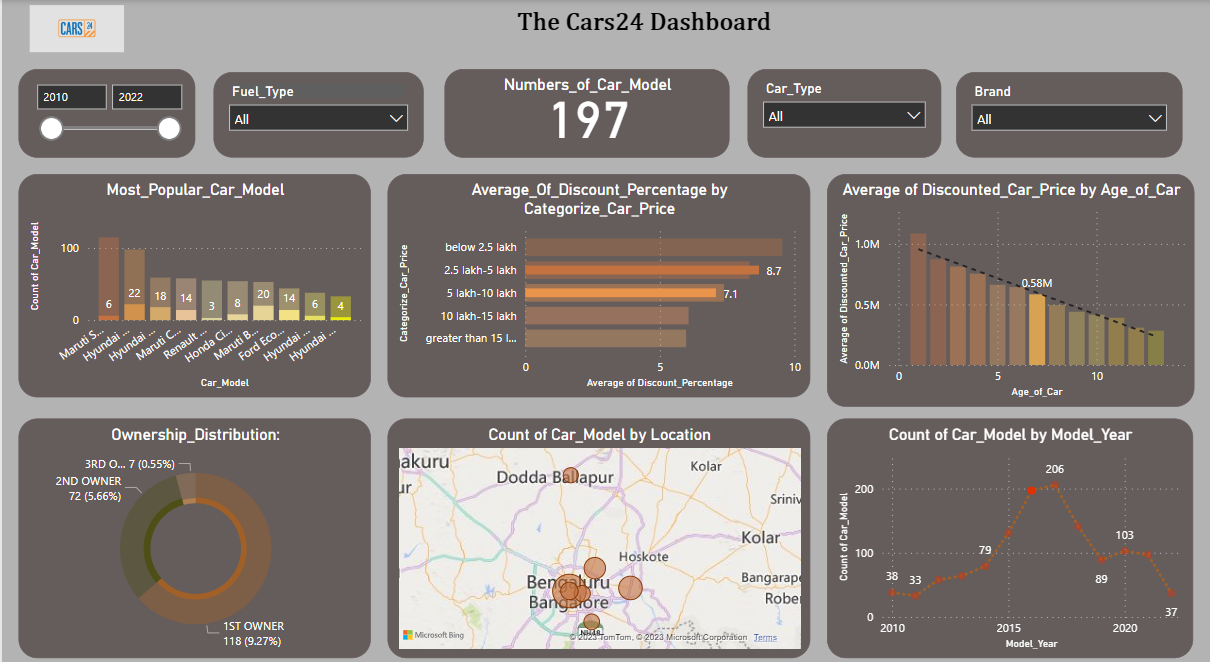

The page's visual inventory and layout, read from the dashboard file:
{"tool":"powerbi","page":{"name":"DashBoard","canvas":[1280,720],"ordinal":0},"visuals":[{"type":"barChart","title":"Average_Of_Discount_Percentage_by_Categorize_Car_Price","fields":{"Category":["Cars_24.Categorize_Car_Price"],"Y":["Avg(Cars_24.Discount_Percentage)"]},"box":[408.5,184.4,448.2,236.8],"z":0},{"type":"columnChart","title":"Most_Popular_Car_Model","fields":{"Category":["Cars_24.Car_Model"],"Y":["CountNonNull(Cars_24.Car_Model)"]},"box":[17.5,184.4,373.5,236.8],"z":1000},{"type":"clusteredColumnChart","fields":{"Y":["Avg(Cars_24.Discounted_Car_Price)"],"Category":["Cars_24.Age_of_Car"]},"box":[874.2,184.4,389.4,246.4],"z":2000},{"type":"donutChart","title":"Ownership_Distribution:","fields":{"Category":["Cars_24.Ownership"],"Y":["CountNonNull(Cars_24.Car_Model)"]},"box":[17.5,443.4,373.5,254.3],"z":3000},{"type":"map","fields":{"Category":["Cars_24.Location"],"Size":["CountNonNull(Cars_24.Car_Model)"]},"box":[408.5,443.4,448.2,254.3],"z":4000},{"type":"lineChart","fields":{"Category":["Cars_24.Model_Year"],"Y":["CountNonNull(Cars_24.Car_Model)"]},"box":[874.2,443.4,387.8,254.3],"z":5000},{"type":"card","title":"Numbers_of_Car_Model","fields":{"Values":["Cars_24.Number_of_Car_Model"]},"box":[468.9,73.1,302,93.8],"z":6000},{"type":"slicer","fields":{"Values":["Cars_24.Brand"]},"box":[1010.9,76.3,240,90.6],"z":7000},{"type":"slicer","fields":{"Values":["Cars_24.Car_Type"]},"box":[789.9,73.1,205,93.8],"z":8000},{"type":"slicer","fields":{"Values":["Cars_24.Fuel_Type"]},"box":[224.1,76.3,222.5,90.6],"z":9000},{"type":"slicer","fields":{"Values":["Cars_24.Model_Year"]},"box":[17.5,73.1,187.5,93.8],"z":10000},{"type":"image","box":[0,0,158.9,60.4],"z":11000},{"type":"textbox","box":[139.9,0,1122.1,60.4],"z":12000}]}

Visuals, with their boxes in screenshot pixels (x1, y1, x2, y2), scaled from the page's 1280x720 canvas onto the 1210x662 screenshot:
"Average_Of_Discount_Percentage_by_Categorize_Car_Price" barChart: <region>386, 170, 810, 387</region>
"Most_Popular_Car_Model" columnChart: <region>17, 170, 370, 387</region>
clusteredColumnChart - Avg(Cars_24.Discounted_Car_Price) x Cars_24.Age_of_Car: <region>826, 170, 1194, 396</region>
"Ownership_Distribution:" donutChart: <region>17, 408, 370, 641</region>
map - Cars_24.Location x CountNonNull(Cars_24.Car_Model): <region>386, 408, 810, 641</region>
lineChart - Cars_24.Model_Year x CountNonNull(Cars_24.Car_Model): <region>826, 408, 1193, 641</region>
"Numbers_of_Car_Model" card: <region>443, 67, 729, 153</region>
slicer - Cars_24.Brand: <region>956, 70, 1182, 153</region>
slicer - Cars_24.Car_Type: <region>747, 67, 940, 153</region>
slicer - Cars_24.Fuel_Type: <region>212, 70, 422, 153</region>
slicer - Cars_24.Model_Year: <region>17, 67, 194, 153</region>
image: <region>0, 0, 150, 56</region>
textbox: <region>132, 0, 1193, 56</region>
